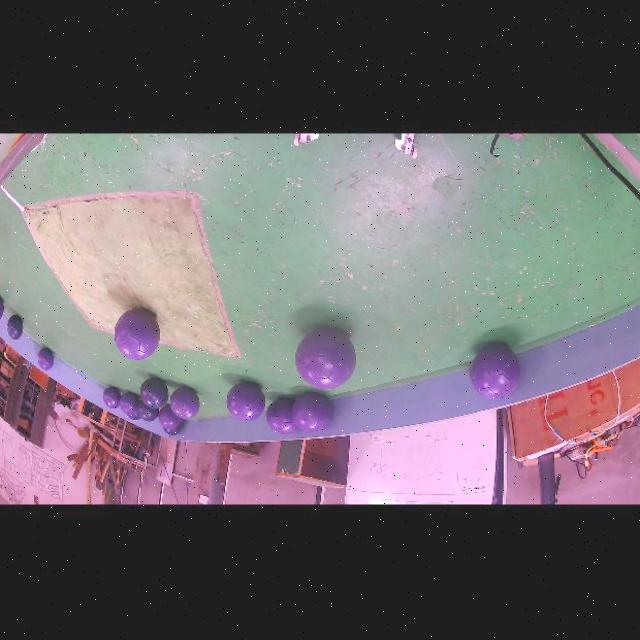B: (141, 378, 169, 409), (137, 400, 159, 422), (6, 315, 23, 339), (164, 422, 183, 436)
P: (295, 328, 356, 388), (470, 344, 520, 398), (114, 309, 160, 360), (292, 392, 333, 432), (227, 382, 266, 420), (266, 397, 299, 435), (170, 387, 200, 419), (159, 405, 181, 429), (120, 392, 138, 415), (37, 347, 54, 370), (103, 387, 120, 409), (0, 296, 4, 319)
